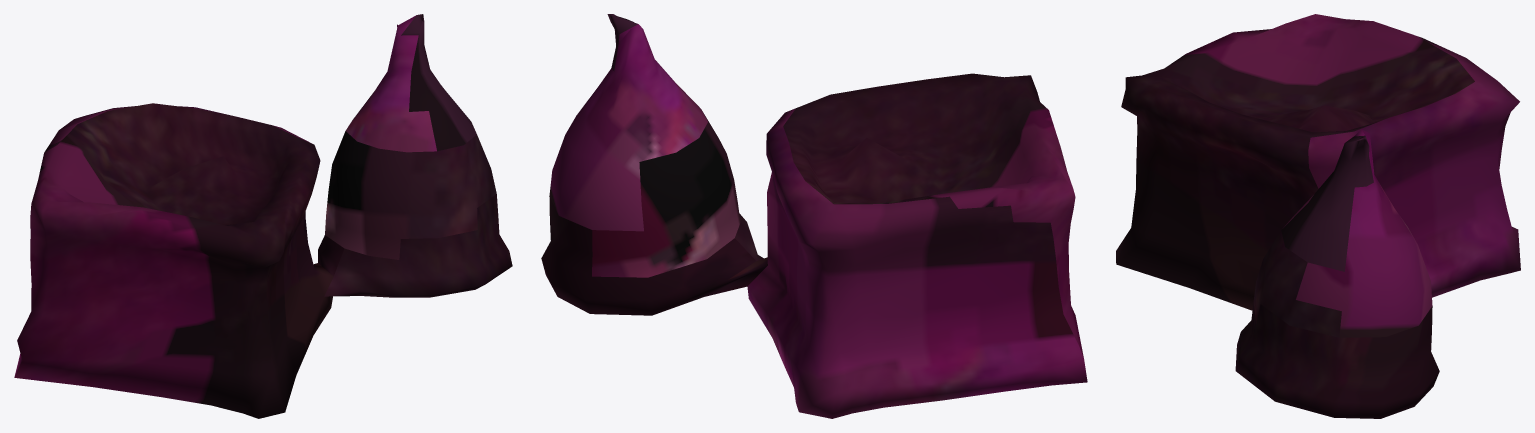
The model's file is terrain-abyss-chancel-object-100.obj.
3 views of the same model, side by side, from view 1: azimuth 30°, elevation 25°; view 2: azimuth 150°, elevation 25°; view 3: azimuth 270°, elevation 25° (orthographic). The views are drawn at different scales.
Parts seen in each view (by area): view 1: terrain-abyss-chancel-object-100; view 2: terrain-abyss-chancel-object-100; view 3: terrain-abyss-chancel-object-100.
Part boxes in pixels (left/top/right/bottom): terrain-abyss-chancel-object-100: left=14, top=14, right=512, bottom=418; terrain-abyss-chancel-object-100: left=541, top=14, right=1087, bottom=418; terrain-abyss-chancel-object-100: left=1116, top=14, right=1520, bottom=418.
Bounding box in the file's own units: 0.1849 × 0.0906 × 0.1285.
